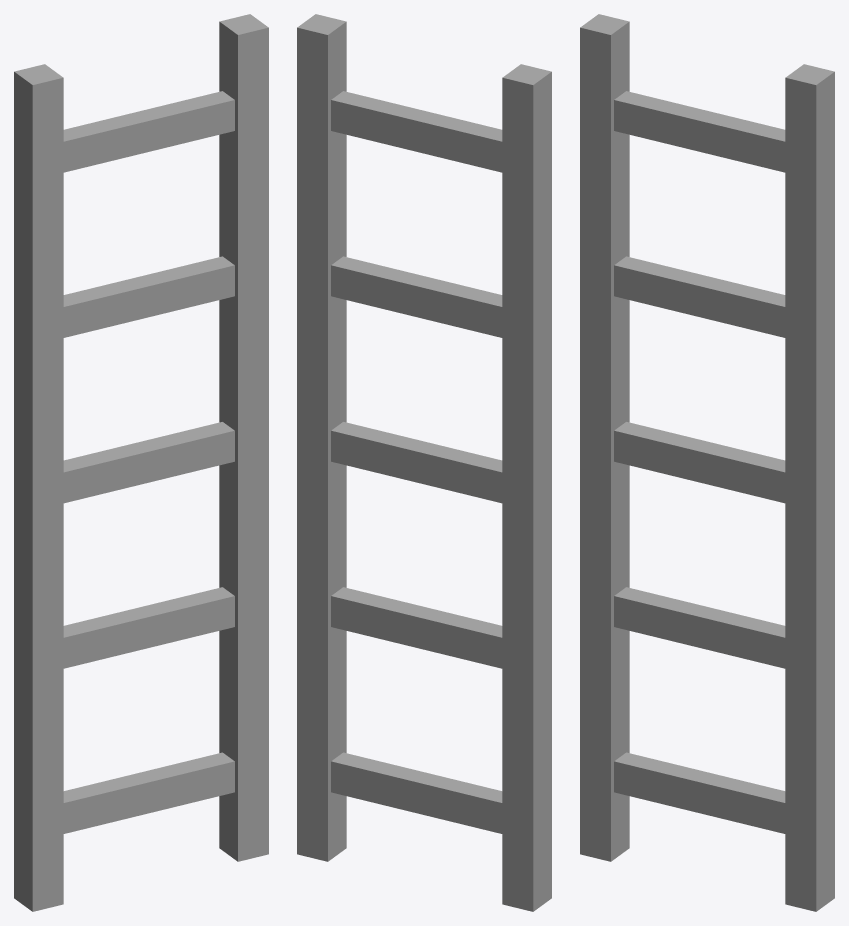
Rendered from ladder.glb.
3 views of the same model, side by side, from view 1: azimuth 30°, elevation 25°; view 2: azimuth 150°, elevation 25°; view 3: azimuth 330°, elevation 25° (orthographic).
Parts seen in each view (by area): view 1: Ladder 1; view 2: Ladder 1; view 3: Ladder 1.
Part boxes in pixels (left/top/right/bottom): Ladder 1: left=14, top=14, right=268, bottom=911; Ladder 1: left=297, top=14, right=551, bottom=911; Ladder 1: left=580, top=14, right=834, bottom=911.
Bounding box in the file's own units: 0.4482 × 1.5 × 0.0611.
Materials: 1 (1 with a texture image).
